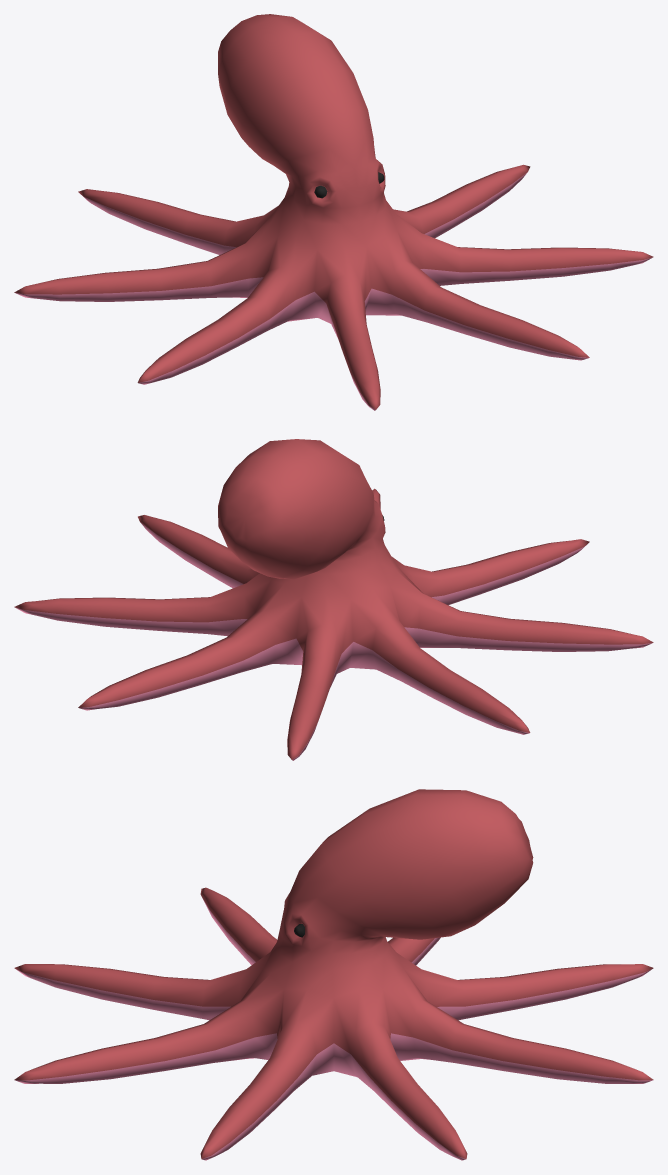
Rendered from octopus.glb.
The picture shows the model from 3 angles, top to bottom: view 1: azimuth 30°, elevation 25°; view 2: azimuth 150°, elevation 25°; view 3: azimuth 270°, elevation 25°; orthographic projection. The views are drawn at different scales.
Parts seen in each view (by area): view 1: Octopus_001; view 2: Octopus_001; view 3: Octopus_001.
Boxes of the visible parts, x1,y1,x2,y2 form: Octopus_001: (14, 14, 653, 410); Octopus_001: (14, 439, 653, 760); Octopus_001: (14, 789, 653, 1160).
Size of what is drawn, in the model's own units: 2.65 by 1.16 by 2.65.
Materials: 1 (1 with a texture image).
